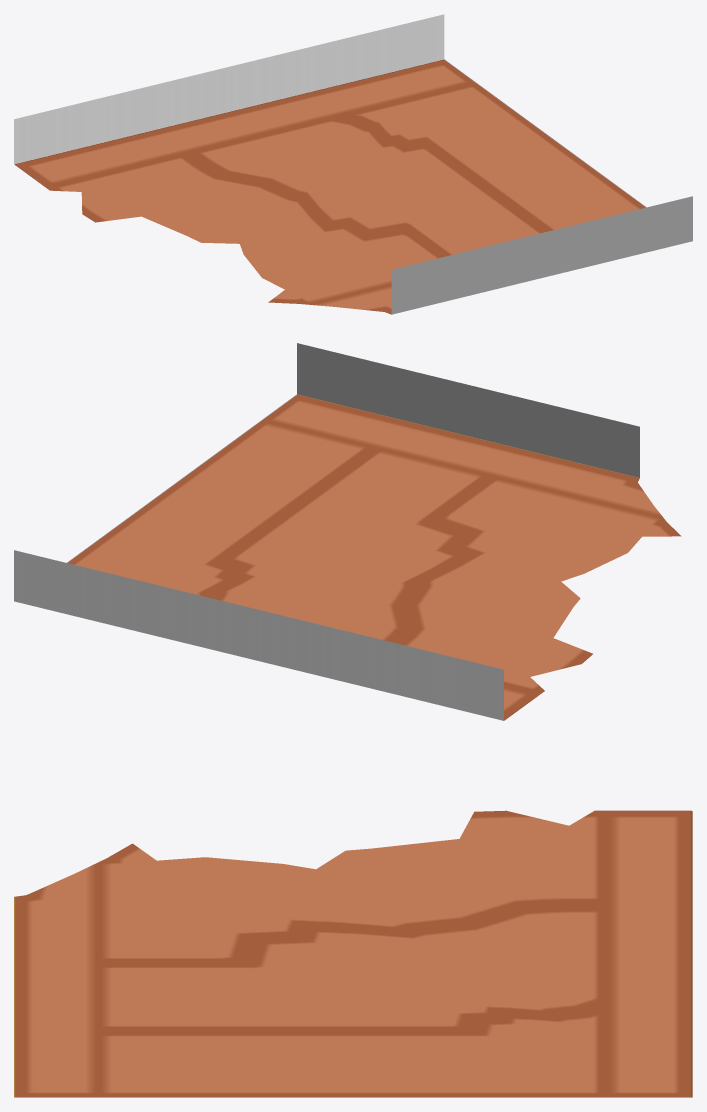
File: Mod_TileBroken_07.fbx
3 views of the same model, one above another, from view 1: azimuth 30°, elevation 25°; view 2: azimuth 150°, elevation 25°; view 3: azimuth 270°, elevation 25° (orthographic). The views are drawn at different scales.
Parts seen in each view (by area): view 1: Mod_TileBroken_07; view 2: Mod_TileBroken_07; view 3: Mod_TileBroken_07.
Part boxes in pixels (left/top/right/bottom): Mod_TileBroken_07: left=14, top=14, right=692, bottom=314; Mod_TileBroken_07: left=14, top=343, right=681, bottom=720; Mod_TileBroken_07: left=14, top=810, right=692, bottom=1097.
Bounding box in the file's own units: 100 × 10 × 100.
